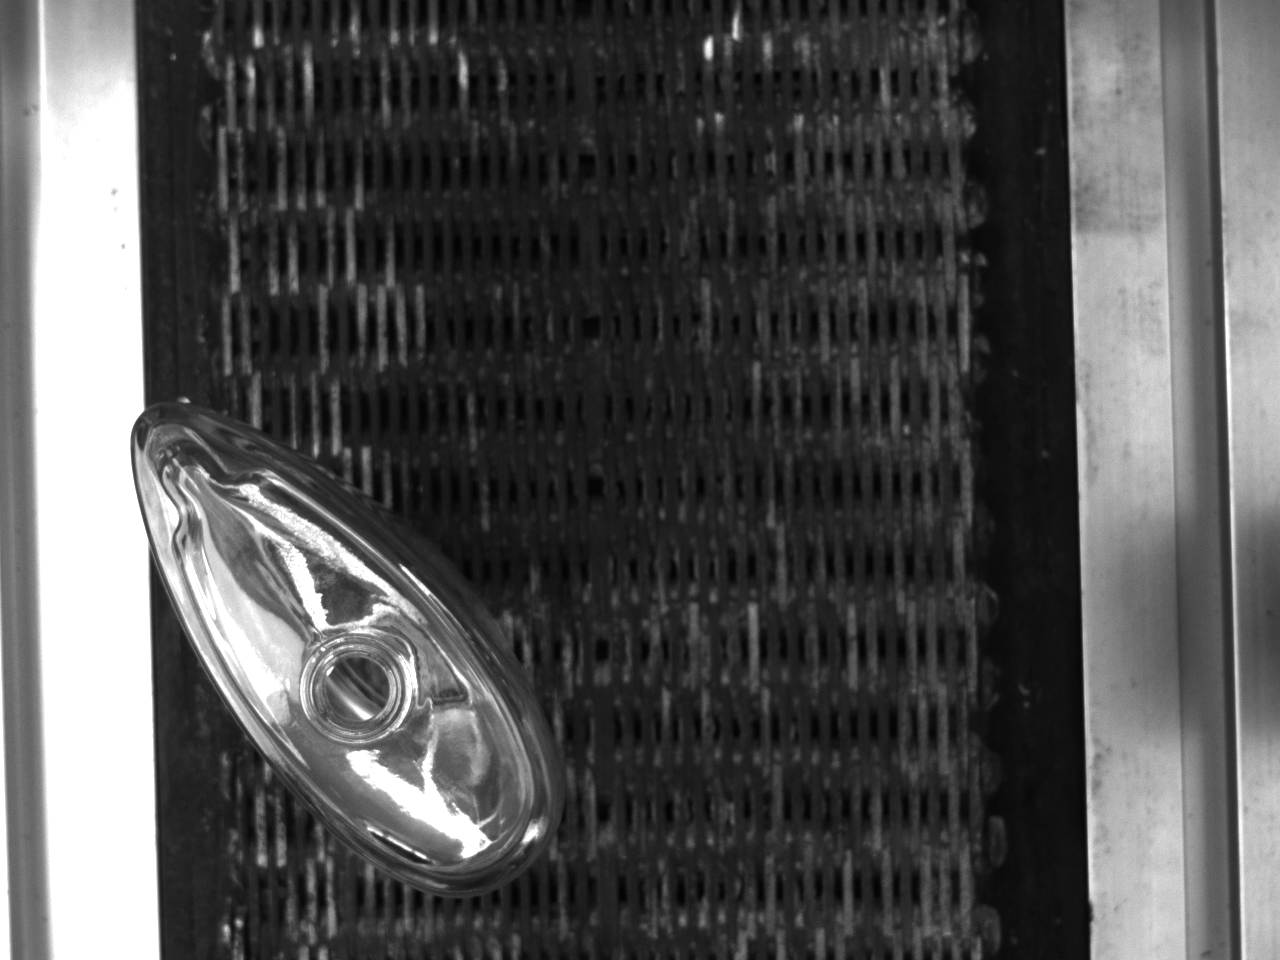bottleneck: (300, 635, 413, 745)
